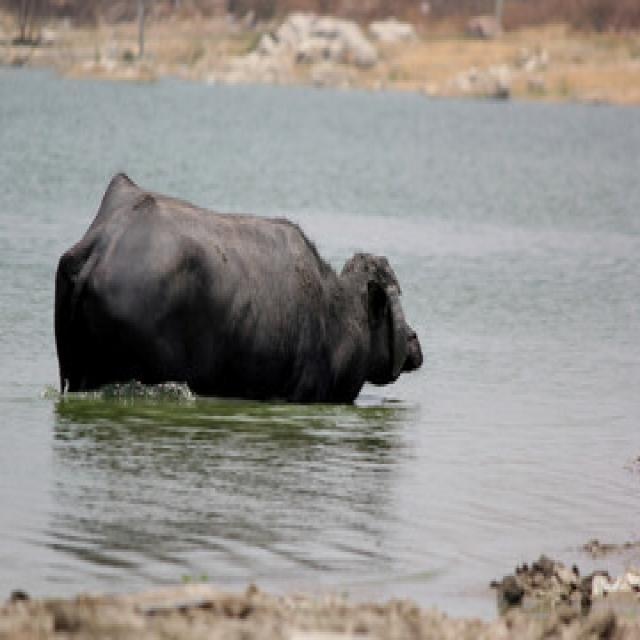Buffalo: (50, 165, 425, 408)
